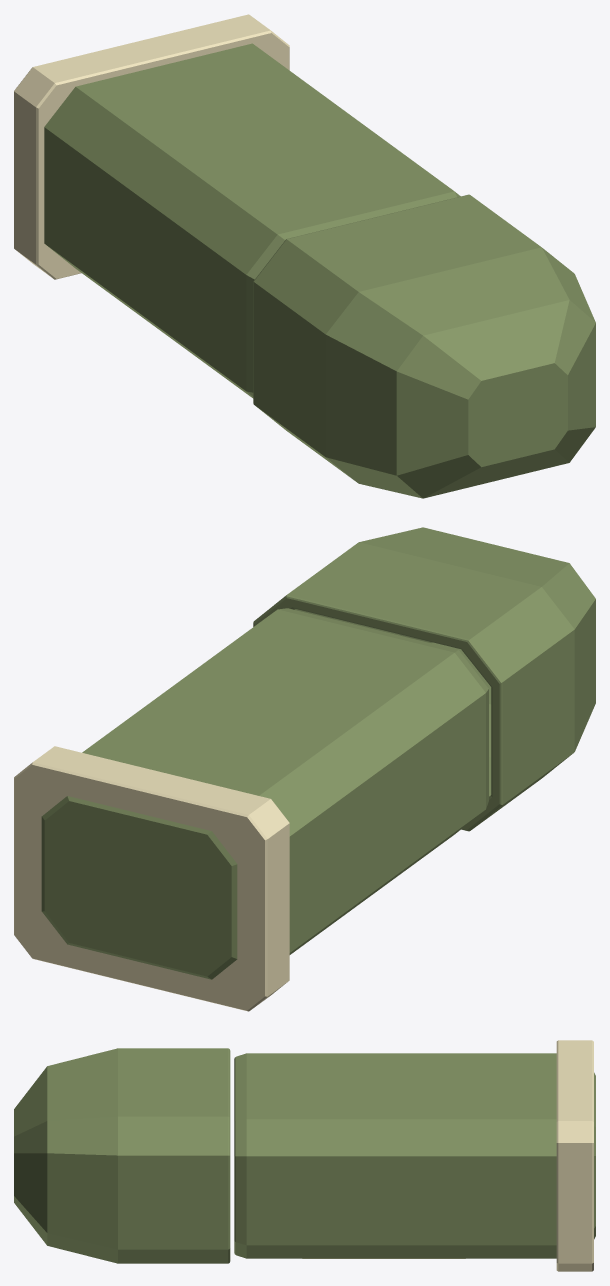
Rendered from deodorant.glb.
The picture shows the model from 3 angles, top to bottom: view 1: azimuth 30°, elevation 25°; view 2: azimuth 150°, elevation 25°; view 3: azimuth 270°, elevation 25°; orthographic projection. The views are drawn at different scales.
Parts seen in each view (by area): view 1: deodorant; view 2: deodorant; view 3: deodorant.
Part boxes in pixels (left/top/right/bottom): deodorant: left=14, top=14, right=595, bottom=498; deodorant: left=14, top=527, right=595, bottom=1011; deodorant: left=14, top=1040, right=595, bottom=1271.
Size of the model in its own units: 0.054 by 0.0404 by 0.14.
